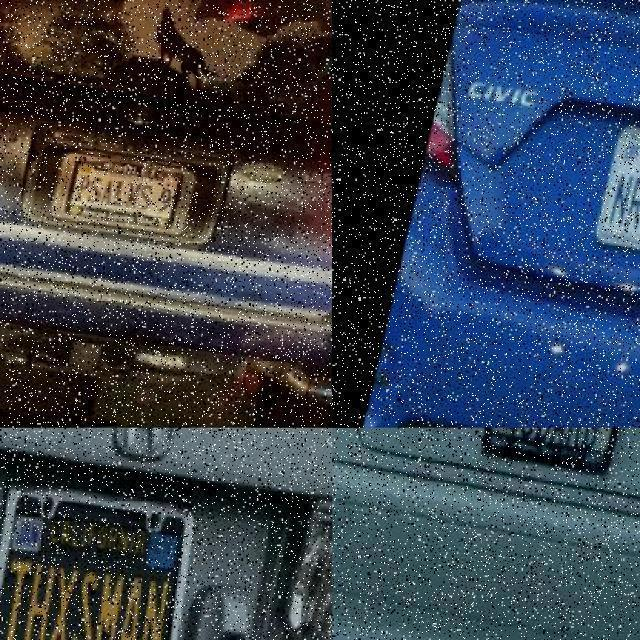License Plate: (0, 472, 212, 640), (479, 428, 633, 504), (60, 162, 183, 237), (587, 114, 640, 288)
